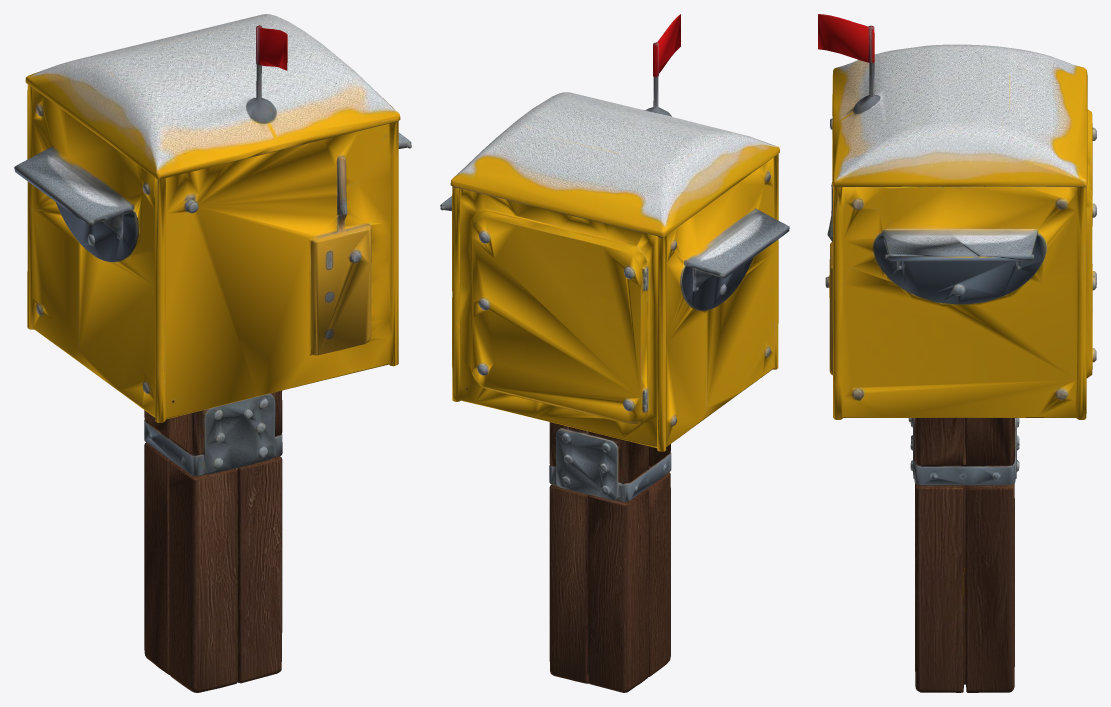
The model's file is toit-boite.glb.
3 renders of one model, left to right at view 1: azimuth 30°, elevation 25°; view 2: azimuth 150°, elevation 25°; view 3: azimuth 270°, elevation 25°, orthographic. The views are drawn at different scales.
Bounding box in the file's own units: 0.9358 × 1.9 × 0.7307.
Materials: 1 (1 with a texture image).
